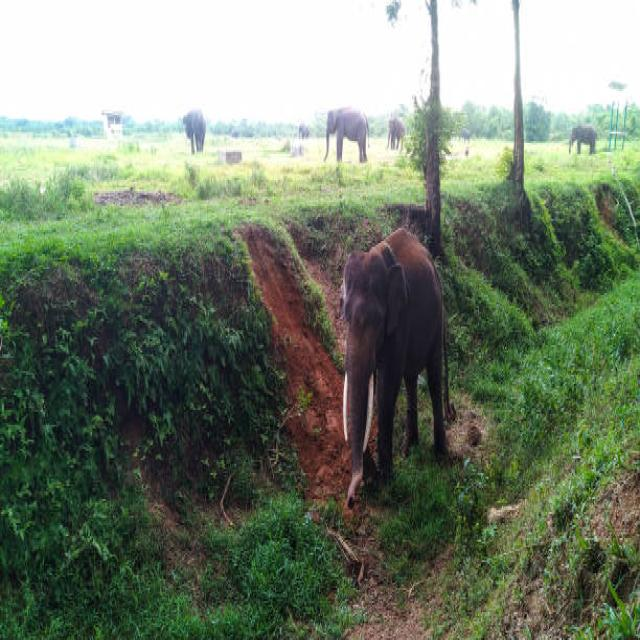Elephant: (339, 225, 462, 510), (320, 101, 376, 180), (179, 99, 223, 194), (566, 120, 608, 174), (383, 106, 411, 158)
